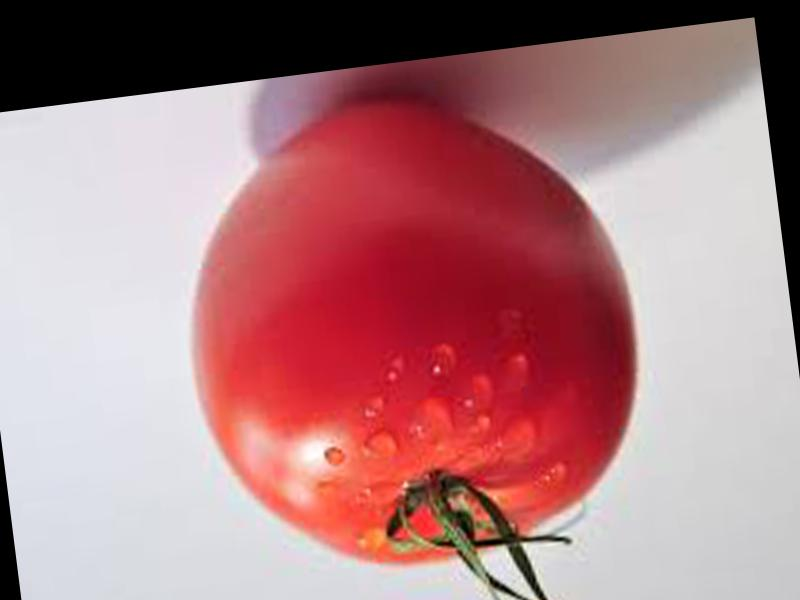Tomato: (163, 72, 657, 583)
